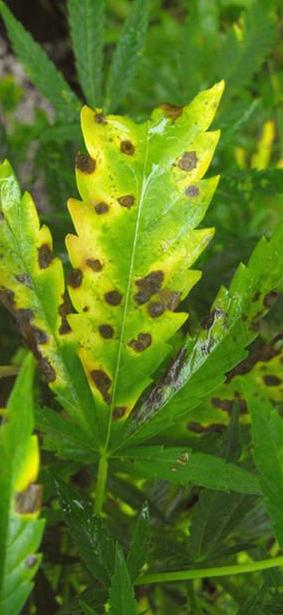Tomato leaf bacterial spot: (65, 80, 232, 429), (0, 109, 98, 426), (0, 353, 65, 615), (225, 373, 283, 553)
